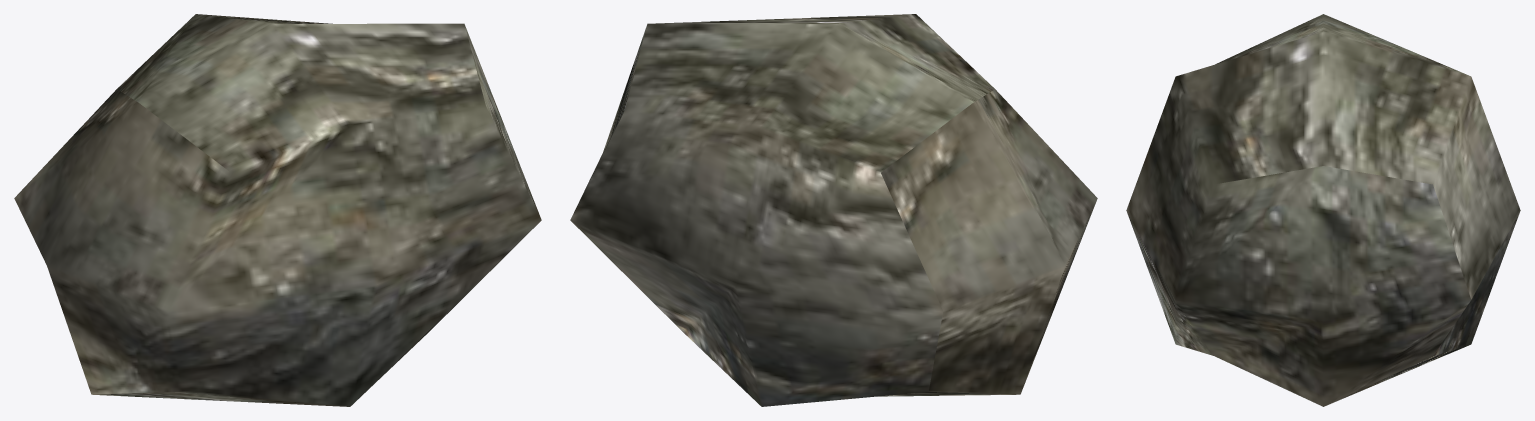
Rendered from Rock 1.FBX.
The picture shows the model from 3 angles, left to right: view 1: azimuth 30°, elevation 25°; view 2: azimuth 150°, elevation 25°; view 3: azimuth 270°, elevation 25°; orthographic projection. The views are drawn at different scales.
Visible parts, largest first — view 1: pCube4; view 2: pCube4; view 3: pCube4.
Part boxes in pixels (x1,y1,x2,y2): pCube4: [14, 14, 541, 406]; pCube4: [570, 14, 1097, 406]; pCube4: [1126, 14, 1520, 406].
Bounding box in the file's own units: 1.3 × 1 × 1.
Materials: 1 (1 with a texture image).
